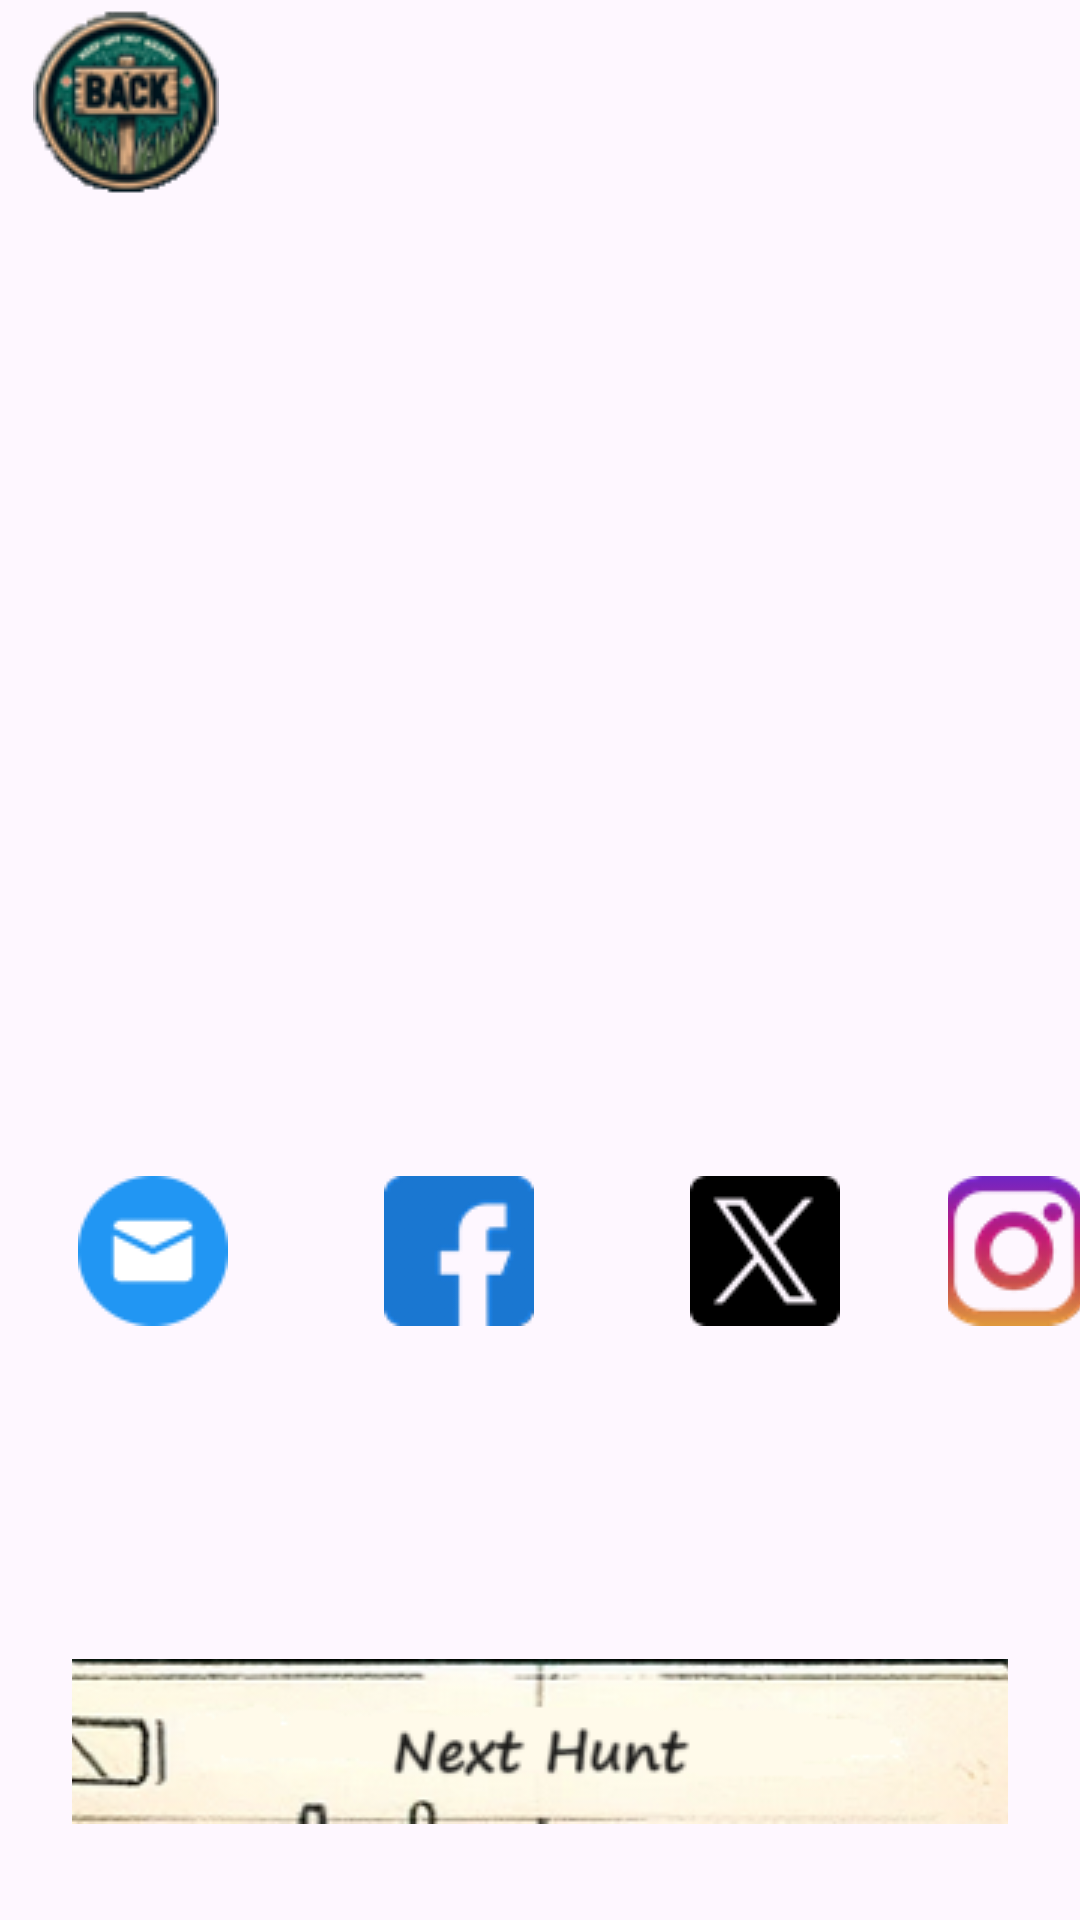

Icons on this 1080px x 1920px Android screen, each with the point to tap as (x,y):
Email: (153,1251)
